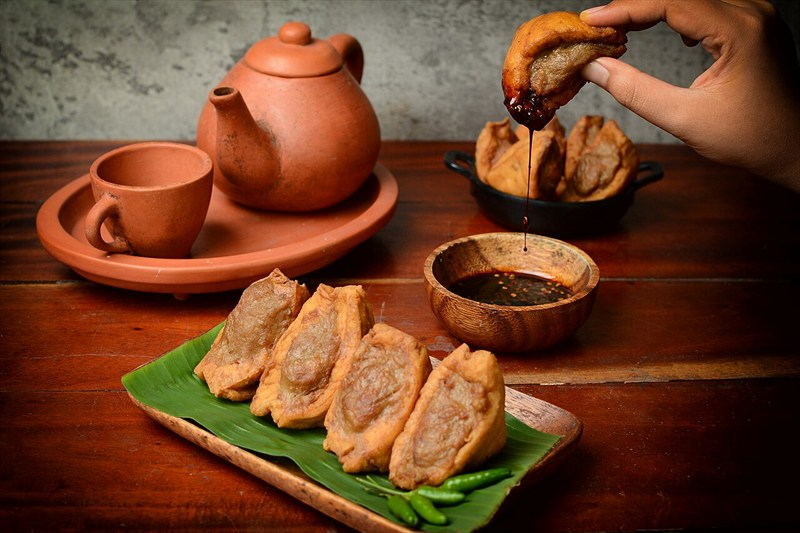Tahu Goreng: (77, 35, 628, 494)
